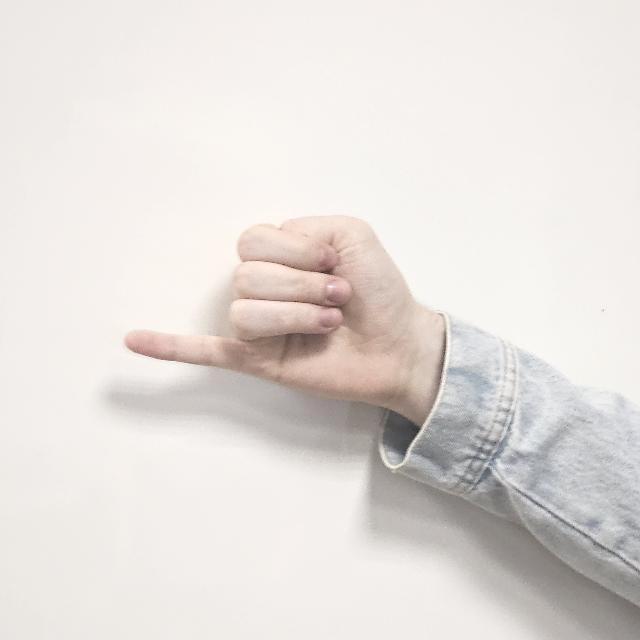Esquerda: (110, 175, 450, 470)
